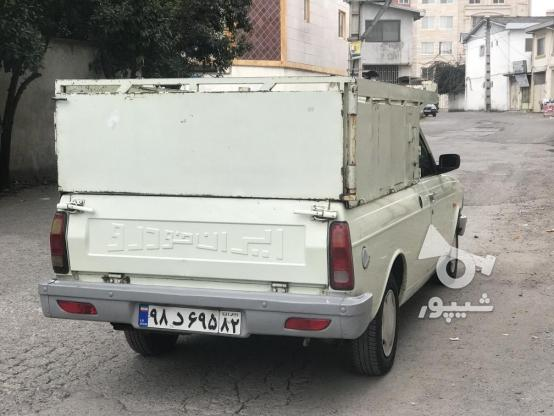car: (136, 303, 244, 333)
